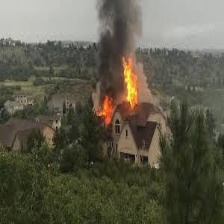fire: (97, 57, 153, 123)
smoke: (96, 1, 148, 81)
